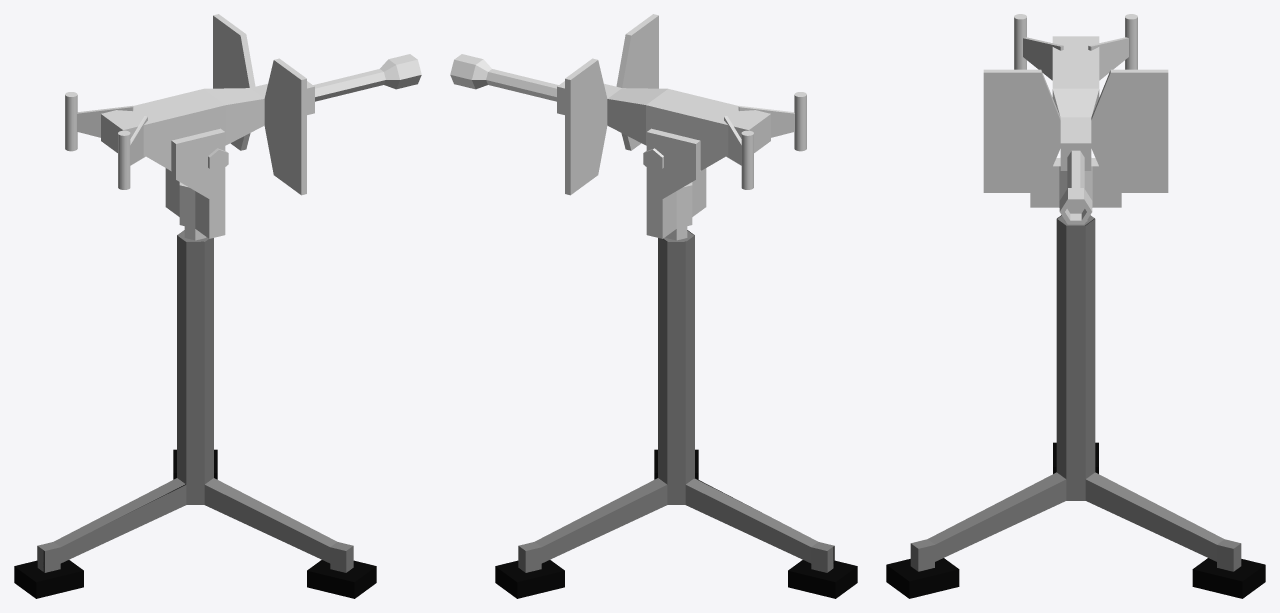
The model's file is turret.fbx.
3 views of the same model, side by side, from view 1: azimuth 30°, elevation 25°; view 2: azimuth 150°, elevation 25°; view 3: azimuth 270°, elevation 25° (orthographic). The views are drawn at different scales.
Visible parts, largest first — view 1: vetricalaxis, weapon, support, Cylinder, nozzle; view 2: vetricalaxis, weapon, support, Cylinder, nozzle; view 3: vetricalaxis, weapon, Cylinder, support, nozzle.
Boxes of the visible parts, left/top/right/bottom form: vetricalaxis: left=14, top=230, right=376, bottom=598; weapon: left=101, top=14, right=314, bottom=195; support: left=146, top=128, right=225, bottom=240; Cylinder: left=65, top=92, right=147, bottom=189; nozzle: left=313, top=54, right=421, bottom=101; vetricalaxis: left=495, top=230, right=857, bottom=598; weapon: left=557, top=14, right=770, bottom=195; support: left=646, top=128, right=725, bottom=240; Cylinder: left=724, top=92, right=806, bottom=189; nozzle: left=450, top=54, right=558, bottom=101; vetricalaxis: left=886, top=215, right=1265, bottom=598; weapon: left=983, top=36, right=1168, bottom=192; Cylinder: left=1014, top=14, right=1137, bottom=80; support: left=1030, top=157, right=1121, bottom=221; nozzle: left=1059, top=150, right=1092, bottom=224.
Bounding box in the file's own units: 244 × 292 × 197.
